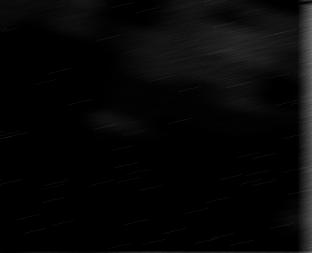Airbag: (0, 1, 312, 252)
